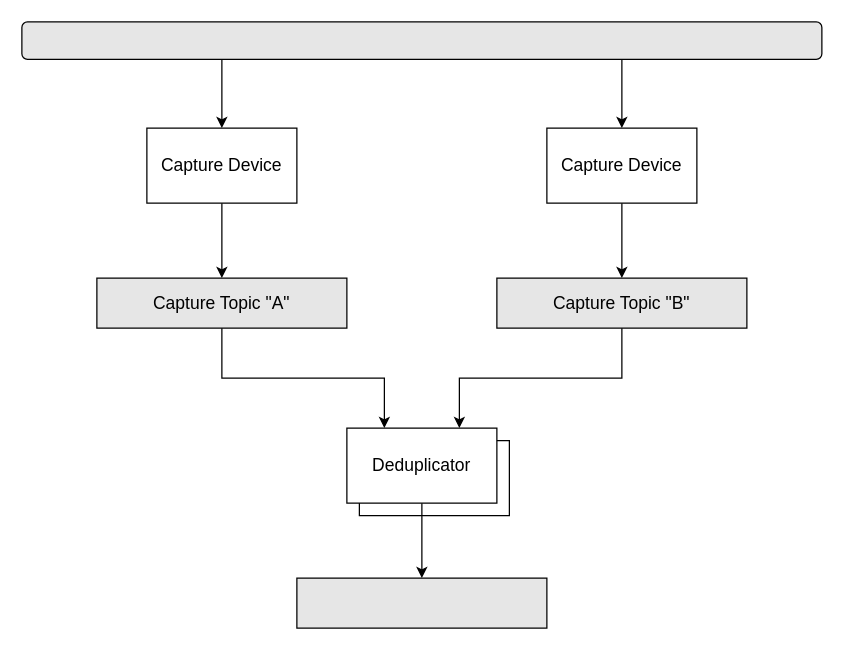
Image size: 844x650. Some labels were removed from this diagram. Each missing label, with the centre of its shape:
Inbound Bus: (421,40)
Outbound Topic: (421,602)
